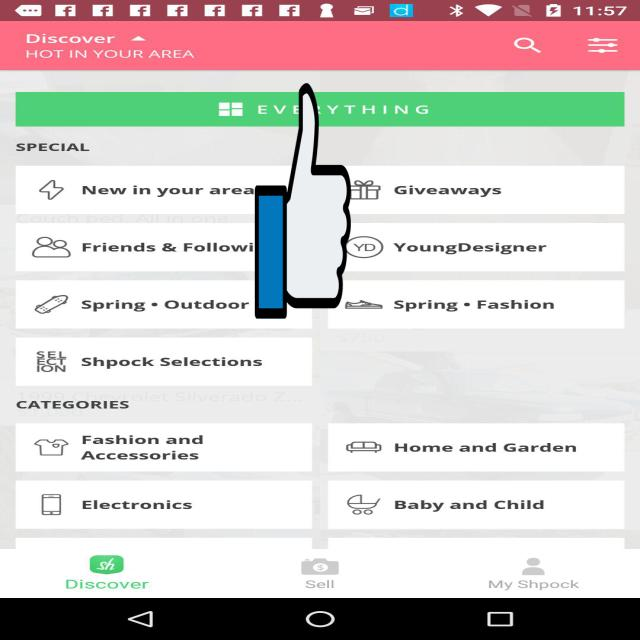privacy zuckering: (255, 78, 351, 324)
